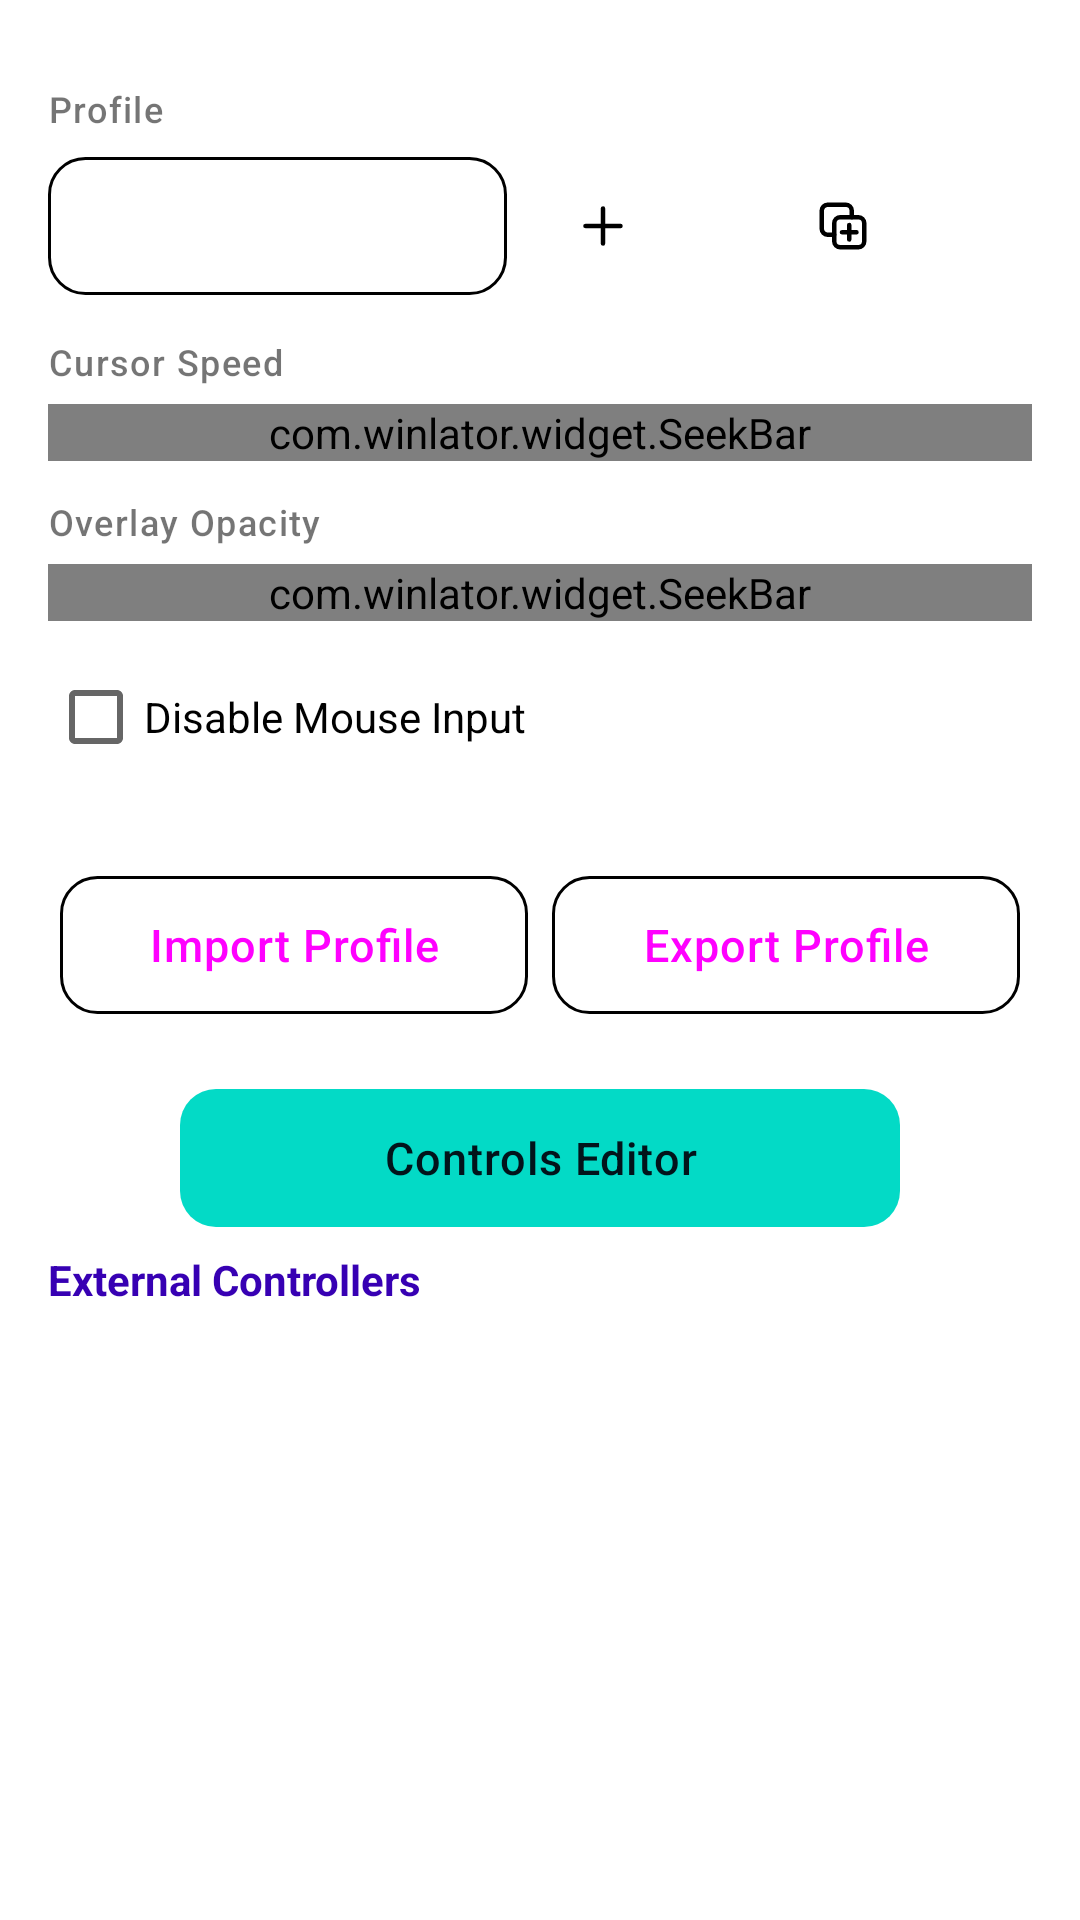

Icon click points for this 1080w x 1920h phone screenshot, format [x,y]:
add: [603,226]
duplicate: [843,226]
